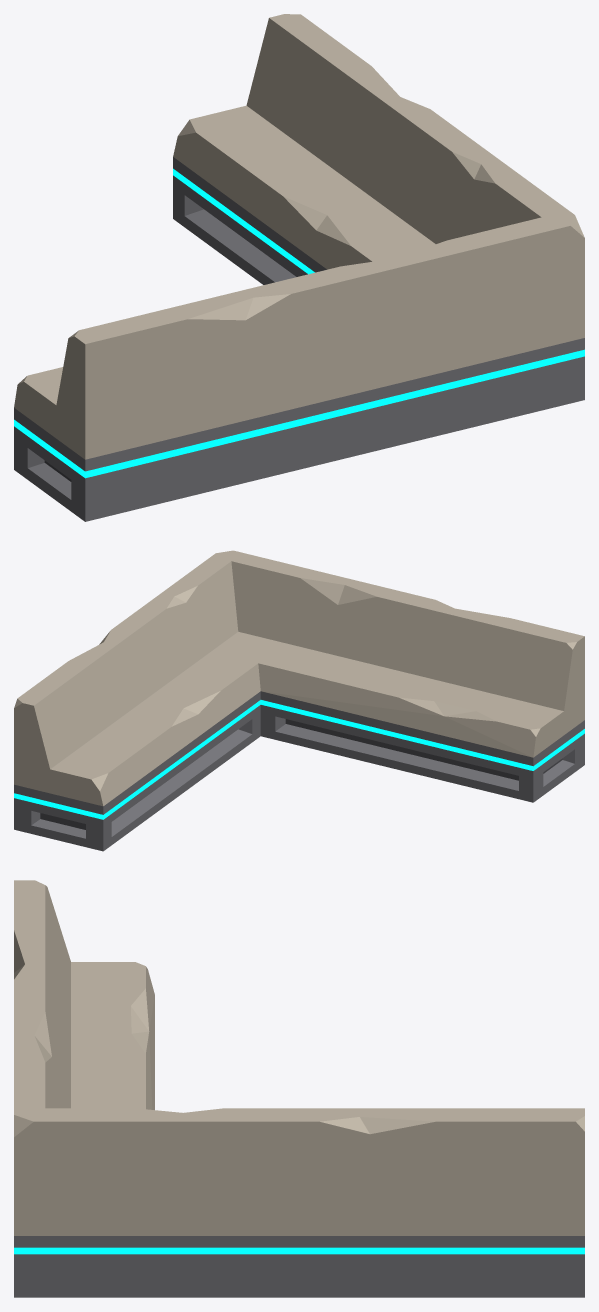
The model's file is SM_Prop_CornerSeat_01.fbx.
3 renders of one model, top to bottom at view 1: azimuth 30°, elevation 25°; view 2: azimuth 150°, elevation 25°; view 3: azimuth 270°, elevation 25°, orthographic. The views are drawn at different scales.
Visible parts, largest first — view 1: SM_Prop_CornerSeat_01_LOD0; view 2: SM_Prop_CornerSeat_01_LOD0; view 3: SM_Prop_CornerSeat_01_LOD0.
Part boxes in pixels (x1,y1,x2,y2): SM_Prop_CornerSeat_01_LOD0: [14, 14, 584, 521]; SM_Prop_CornerSeat_01_LOD0: [14, 550, 584, 851]; SM_Prop_CornerSeat_01_LOD0: [14, 880, 584, 1297].
Size of the model in its own units: 313 by 313 by 106.
Materials: 1 (1 with a texture image).
